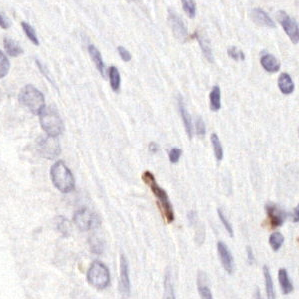Lymphocyte: (138, 170, 177, 229)
